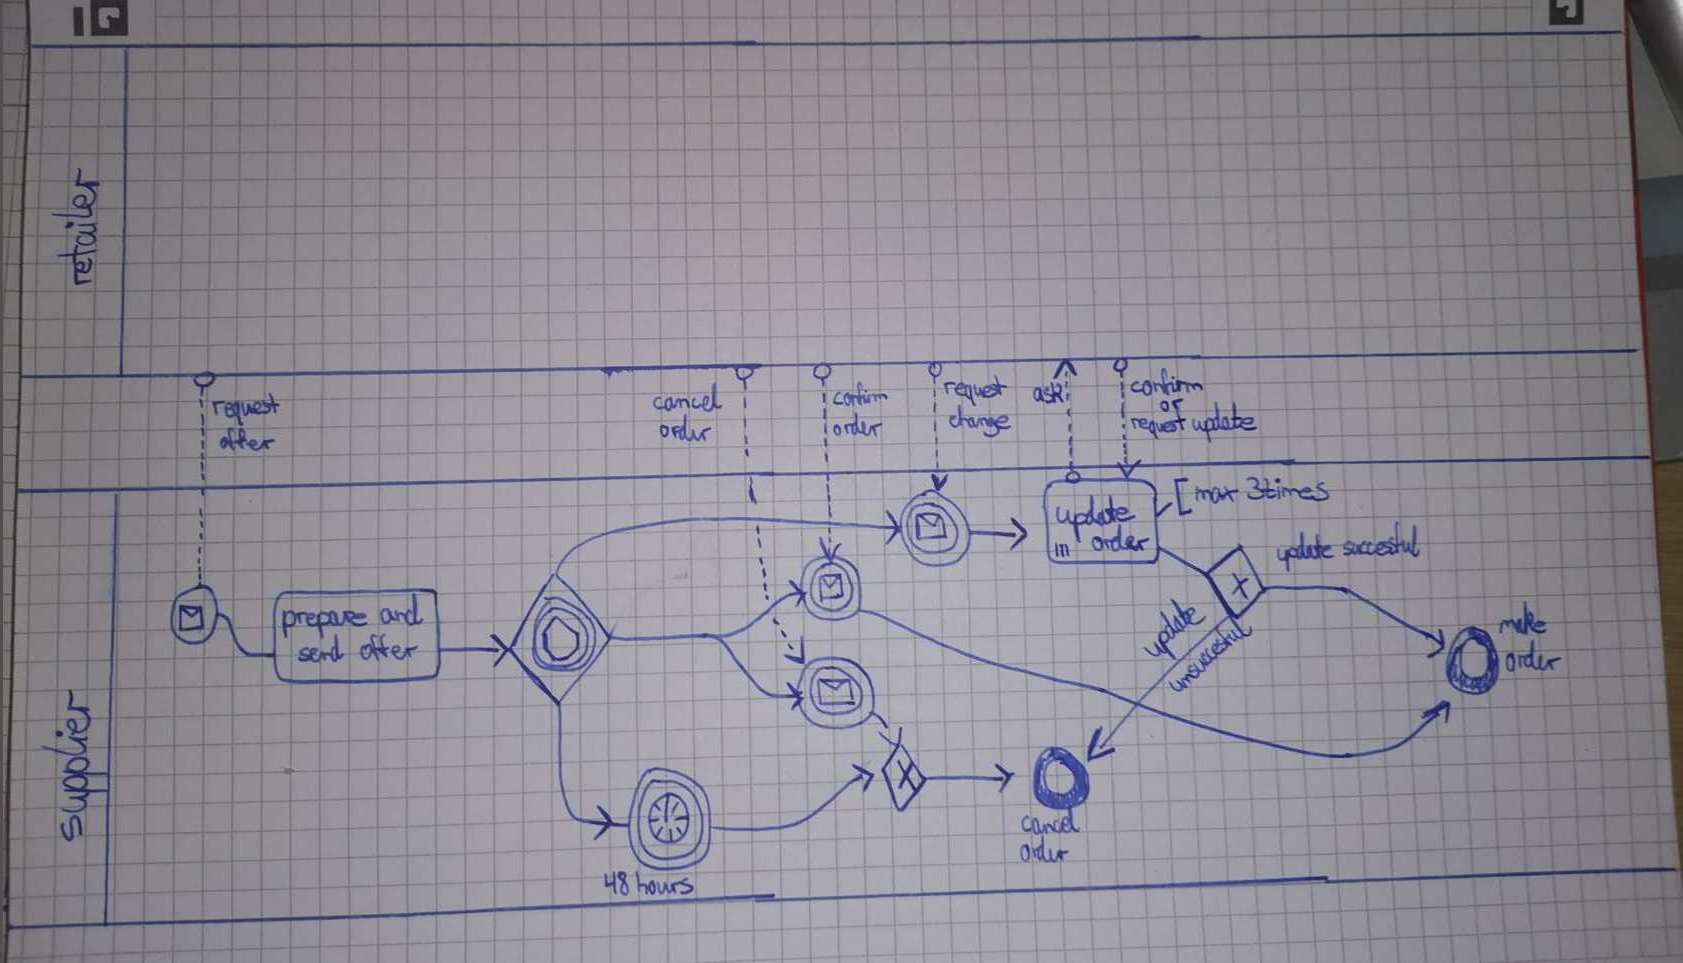3times: (1251, 469, 1325, 508)
48: (603, 871, 630, 898)
In: (1050, 536, 1078, 561)
Update: (1059, 494, 1135, 529)
and: (380, 597, 431, 630)
ask: (1031, 379, 1061, 405)
cancel: (648, 386, 731, 415), (1018, 813, 1082, 836)
change: (943, 405, 1013, 437)
confirm: (1126, 368, 1204, 399), (829, 382, 895, 409)
hours: (633, 873, 697, 898)
make: (1500, 607, 1548, 639)
max: (1193, 482, 1241, 508)
offer: (356, 635, 417, 665), (213, 425, 274, 455)
or: (1154, 391, 1181, 412)
order: (1503, 645, 1560, 675), (1092, 529, 1152, 556), (1020, 836, 1066, 866), (829, 416, 885, 439), (657, 421, 713, 443)
prepare: (281, 602, 370, 636)
request: (208, 388, 282, 422), (941, 370, 1010, 403), (1125, 408, 1188, 440)
retailer: (52, 168, 110, 286)
send: (292, 637, 353, 668)
successful: (1335, 525, 1425, 565)
supplier: (52, 689, 95, 838)
unsuccessful: (1166, 612, 1255, 696)
update: (1143, 602, 1202, 661), (1274, 528, 1337, 566), (1191, 406, 1259, 437)
